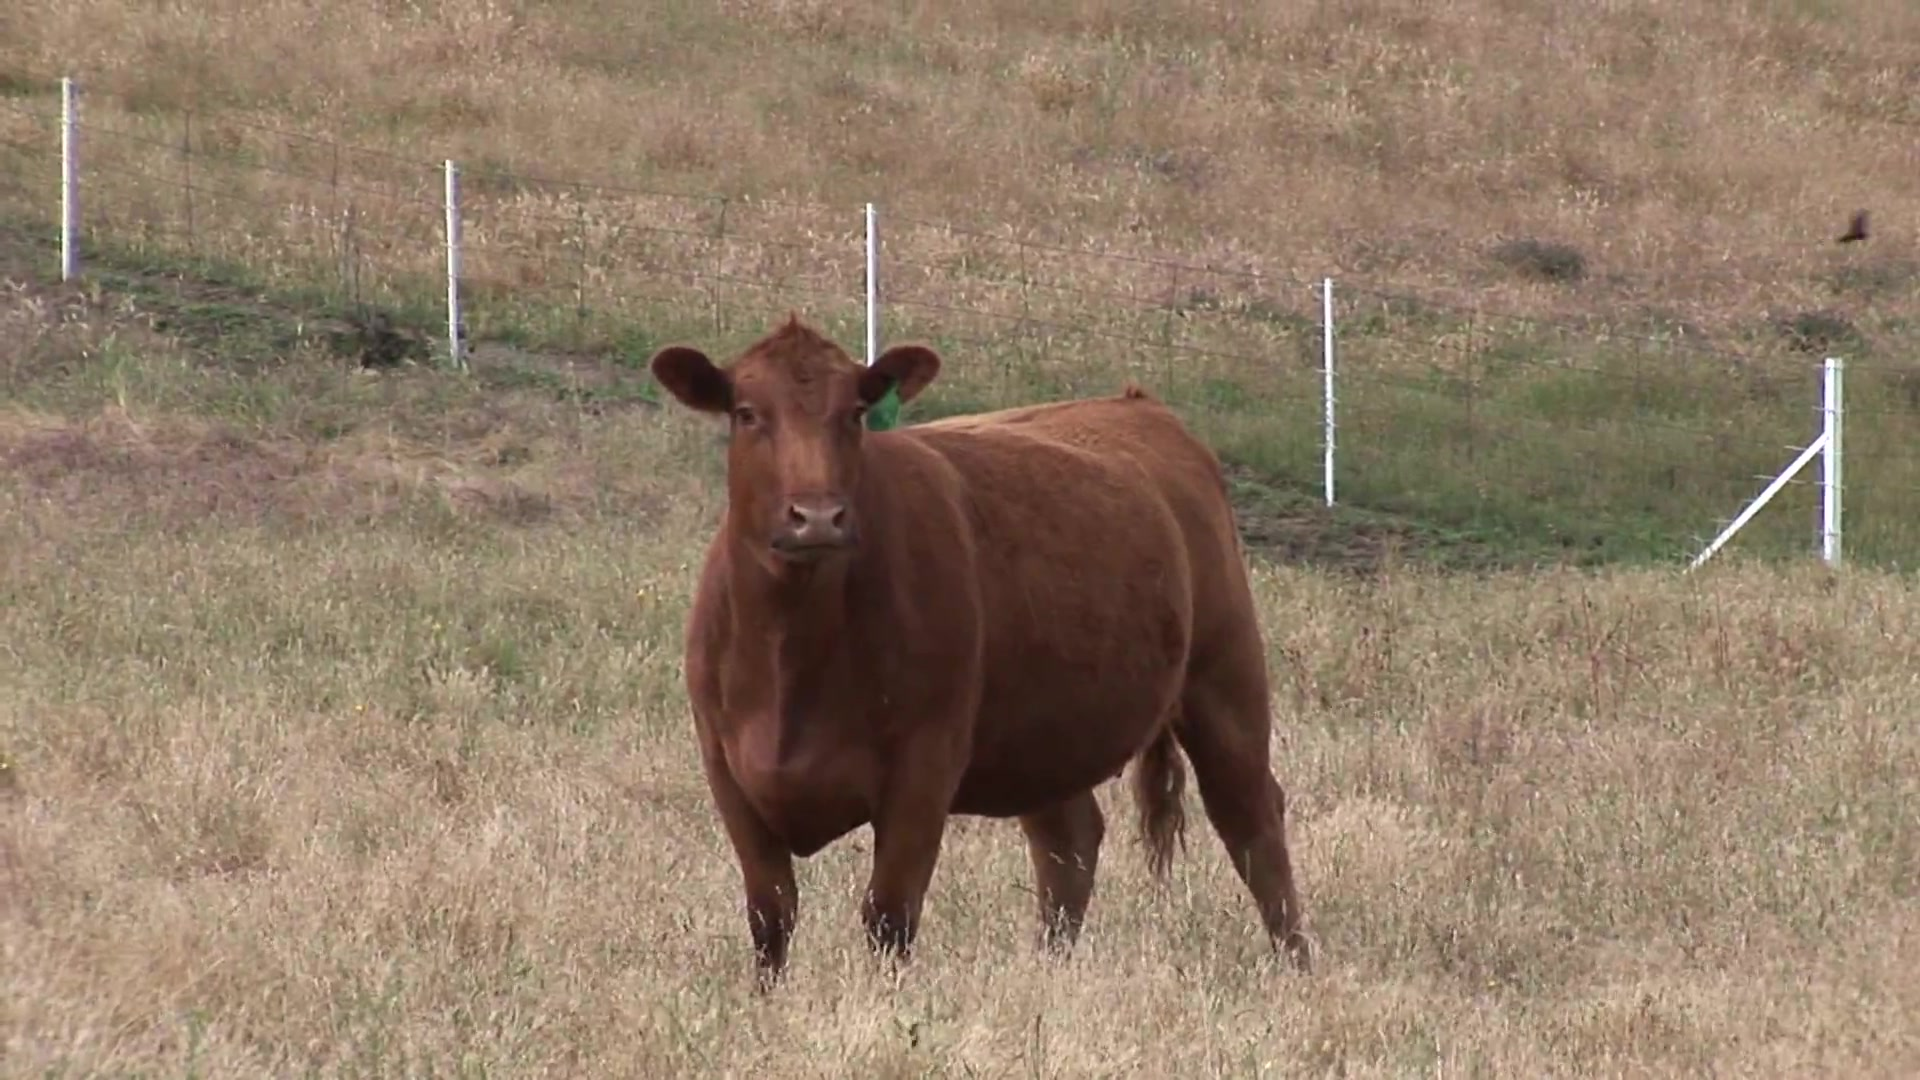cow: (644, 316, 1311, 977)
